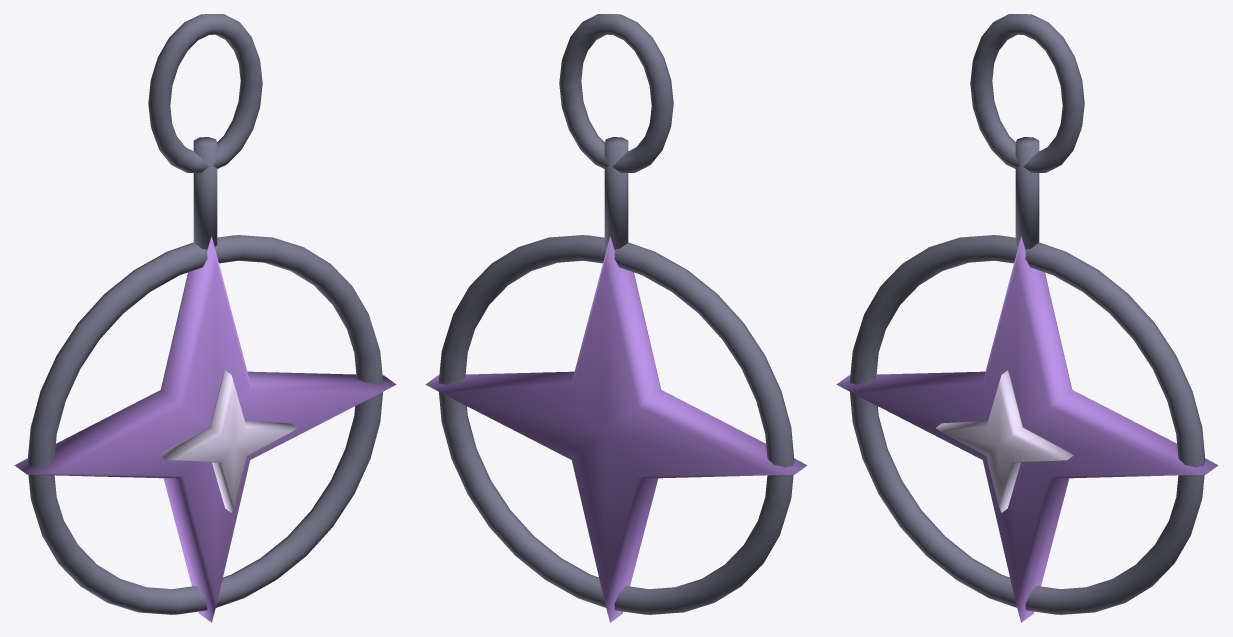
The model's file is noir_star_charm.glb.
3 views of the same model, side by side, from view 1: azimuth 30°, elevation 25°; view 2: azimuth 150°, elevation 25°; view 3: azimuth 330°, elevation 25° (orthographic).
Visible parts, largest first — view 1: noir_star_charm_metal, noir_star_charm_gem, noir_star_charm_light; view 2: noir_star_charm_metal, noir_star_charm_gem; view 3: noir_star_charm_metal, noir_star_charm_gem, noir_star_charm_light.
Boxes of the visible parts, x1,y1,x2,y2 form: noir_star_charm_metal: (27,14,383,614); noir_star_charm_gem: (14,236,396,622); noir_star_charm_light: (159,370,296,512); noir_star_charm_metal: (438,14,794,614); noir_star_charm_gem: (425,236,807,622); noir_star_charm_metal: (849,14,1205,614); noir_star_charm_gem: (836,236,1218,622); noir_star_charm_light: (936,370,1073,512).
Bounding box in the file's own units: 0.056 × 0.0875 × 0.0105.
